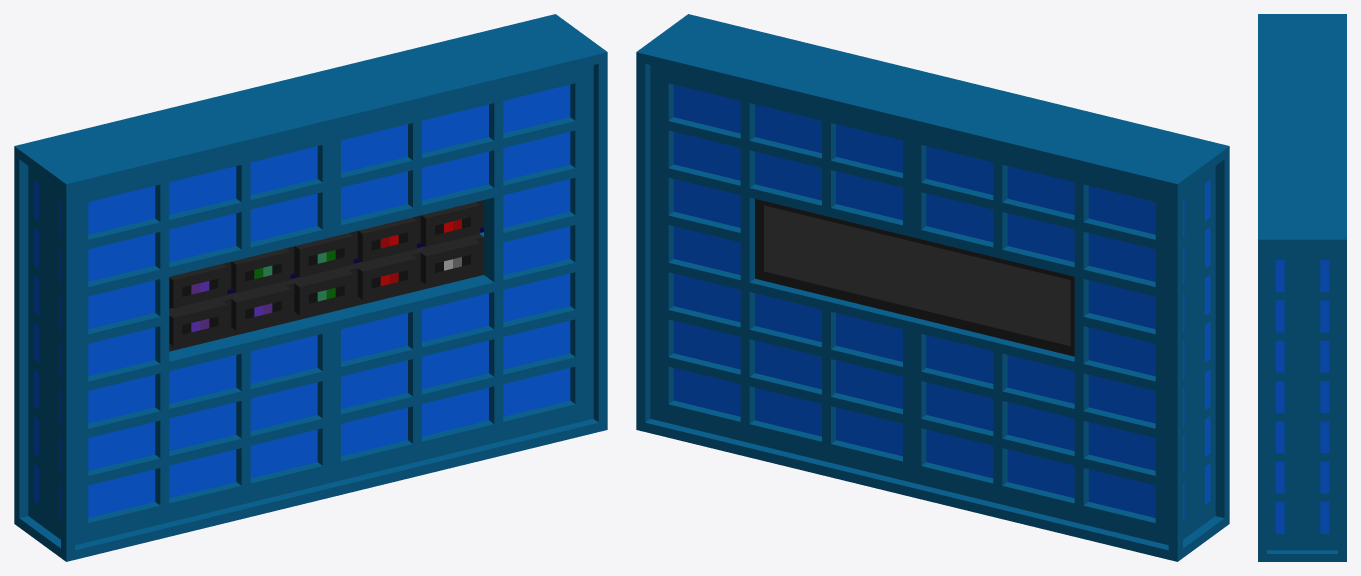
File: Blue Wall 4.obj
3 renders of one model, left to right at view 1: azimuth 30°, elevation 25°; view 2: azimuth 150°, elevation 25°; view 3: azimuth 270°, elevation 25°, orthographic. The views are drawn at different scales.
Bounding box in the file's own units: 60 × 40 × 10.
Materials: 1 (1 with a texture image).
